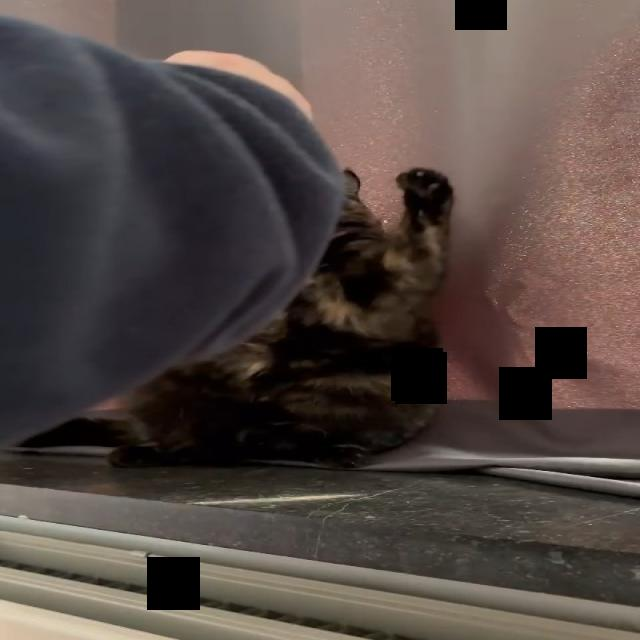authorized: (103, 166, 456, 470)
